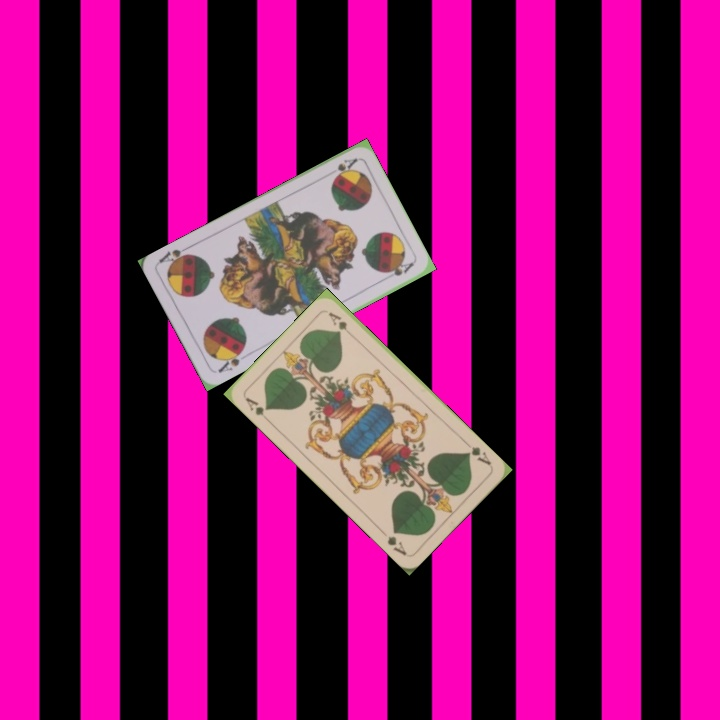GA: (241, 393, 273, 425), (461, 437, 494, 468)
SA: (214, 345, 247, 376), (329, 154, 360, 181)
